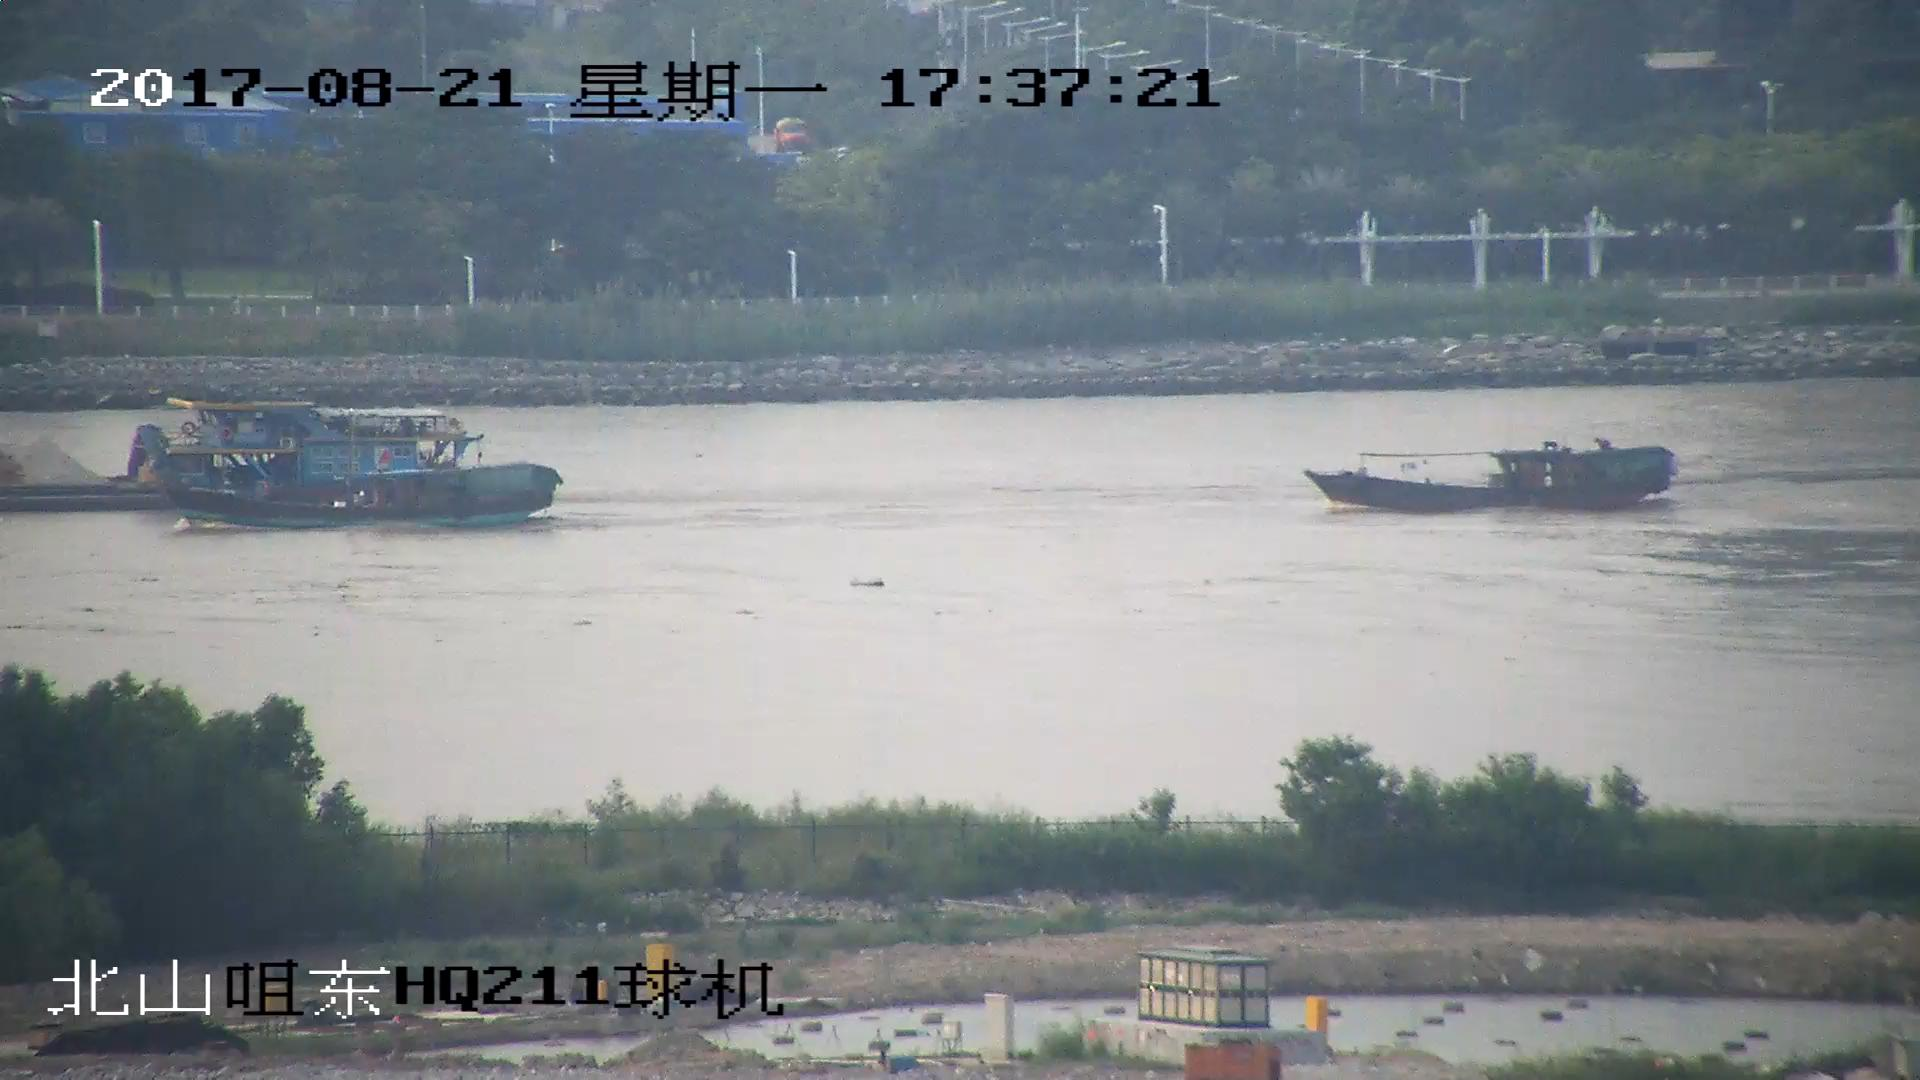fishing boat: (166, 425, 562, 530), (1307, 442, 1679, 509)
ore carrier: (1, 397, 446, 493)
